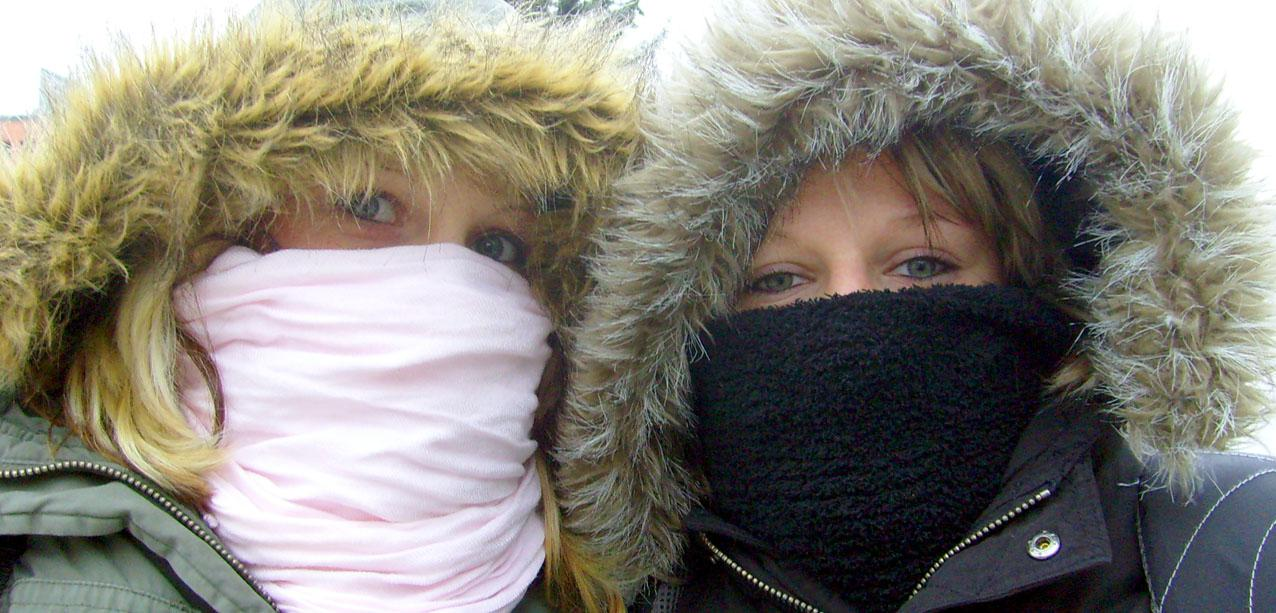OK: (235, 136, 599, 500), (717, 214, 998, 474)
